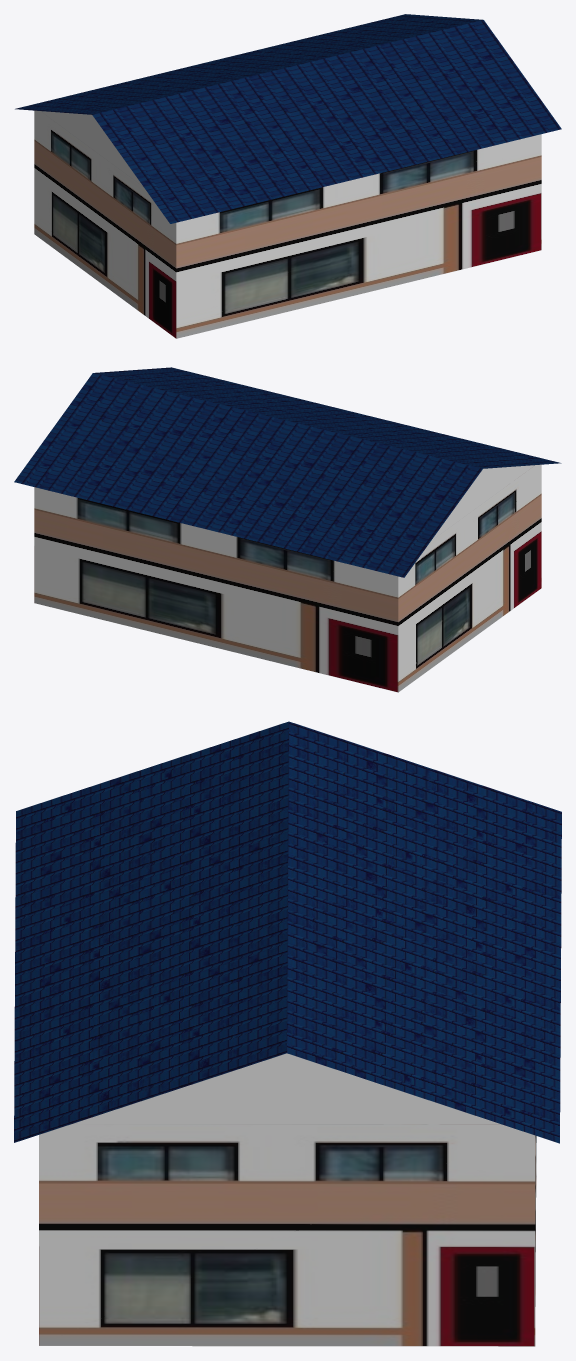
3 views of the same model, one above another, from view 1: azimuth 30°, elevation 25°; view 2: azimuth 150°, elevation 25°; view 3: azimuth 270°, elevation 25° (orthographic). The views are drawn at different scales.
Parts seen in each view (by area): view 1: CityEngineMaterial_5_m, CityEngineMaterial_6_m, CityEngineMaterial_3_m; view 2: CityEngineMaterial_5_m, CityEngineMaterial_6_m, CityEngineMaterial_3_m; view 3: CityEngineMaterial_6_m, CityEngineMaterial_5_m, CityEngineMaterial_3_m.
Part boxes in pixels (box(x1,y1,x2,y2)): CityEngineMaterial_5_m: box(34, 110, 541, 338); CityEngineMaterial_6_m: box(15, 14, 561, 223); CityEngineMaterial_3_m: box(41, 111, 143, 186); CityEngineMaterial_5_m: box(34, 464, 541, 692); CityEngineMaterial_6_m: box(14, 367, 561, 577); CityEngineMaterial_3_m: box(431, 465, 534, 540); CityEngineMaterial_6_m: box(14, 721, 561, 1143); CityEngineMaterial_5_m: box(39, 1123, 536, 1346); CityEngineMaterial_3_m: box(74, 1053, 500, 1124).
Size of the model in its own units: 29.83 by 12.72 by 20.78.
